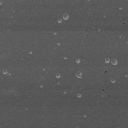corrosion: (74, 70, 84, 79), (61, 12, 70, 21), (53, 71, 62, 79), (1, 68, 9, 76), (74, 57, 82, 65), (111, 57, 118, 66), (104, 57, 111, 65), (109, 77, 116, 84), (76, 92, 82, 98)
